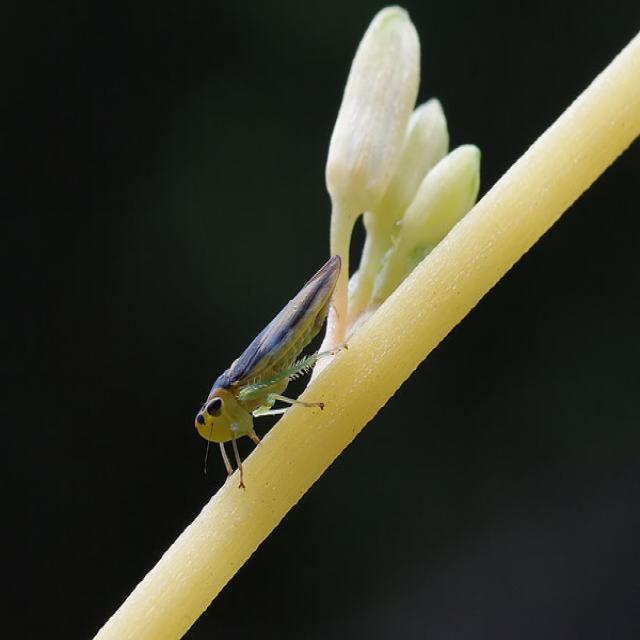Yechan: (190, 247, 348, 477)
